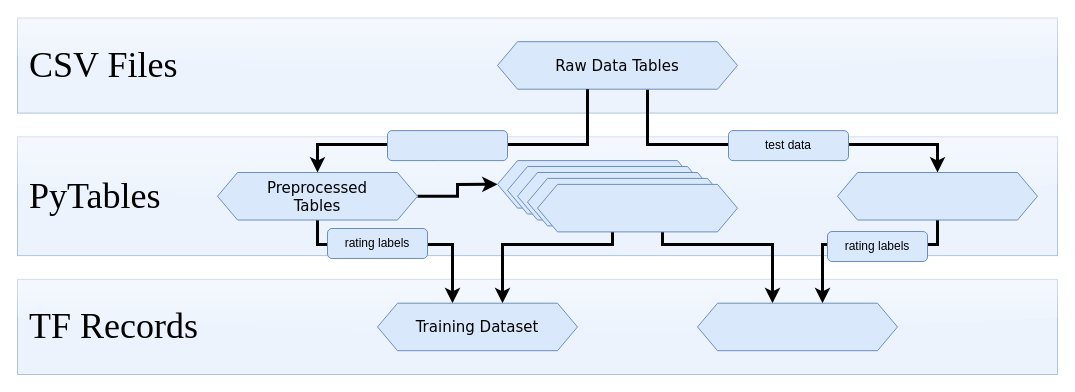
Image size: 1075x392. Some labels were removed from this diagram. The centre of each missing label's shape, as x and y in pixels:
Derived Arrays: pixel 637 207
Ratings Table: pixel 937 196
Test Dataset: pixel 797 326
training data: pixel 447 145
